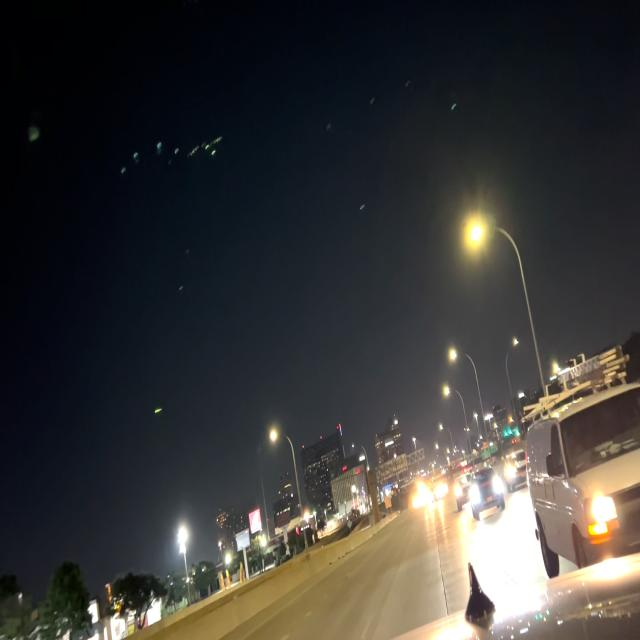back-of-sign: (375, 453, 409, 483)
